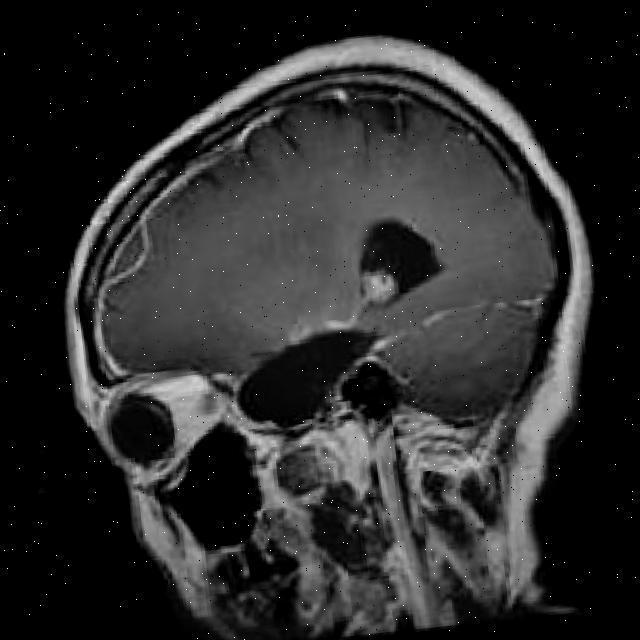MCI: (324, 212, 421, 270)
